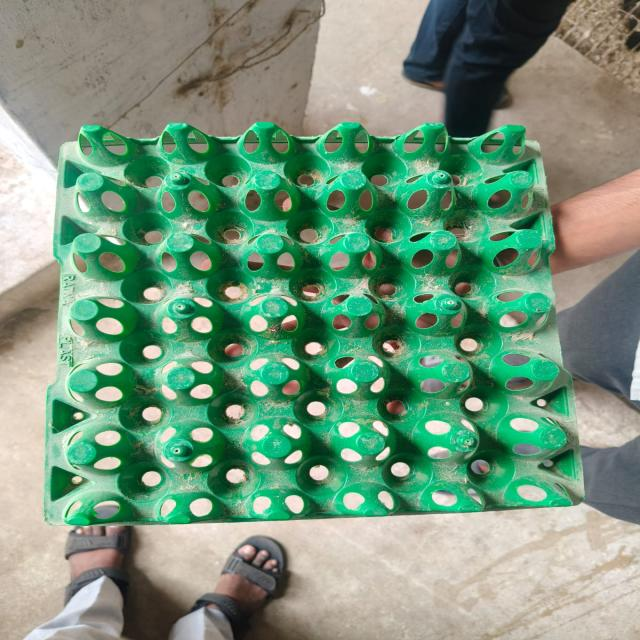egg_tray: (45, 123, 581, 524)
